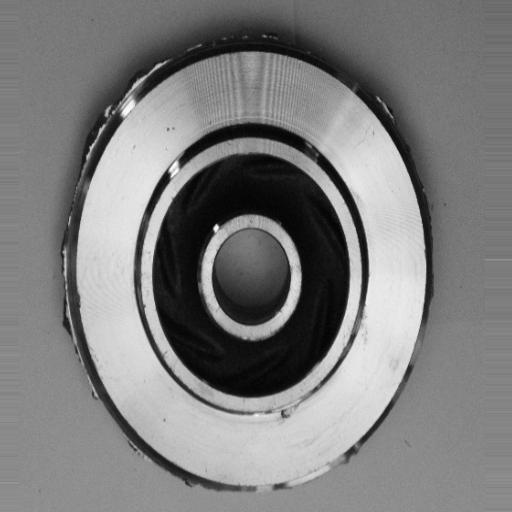casting_with_burr: (59, 30, 434, 496)
crack: (273, 391, 315, 428)
scratch: (157, 143, 195, 198), (229, 399, 286, 426)
